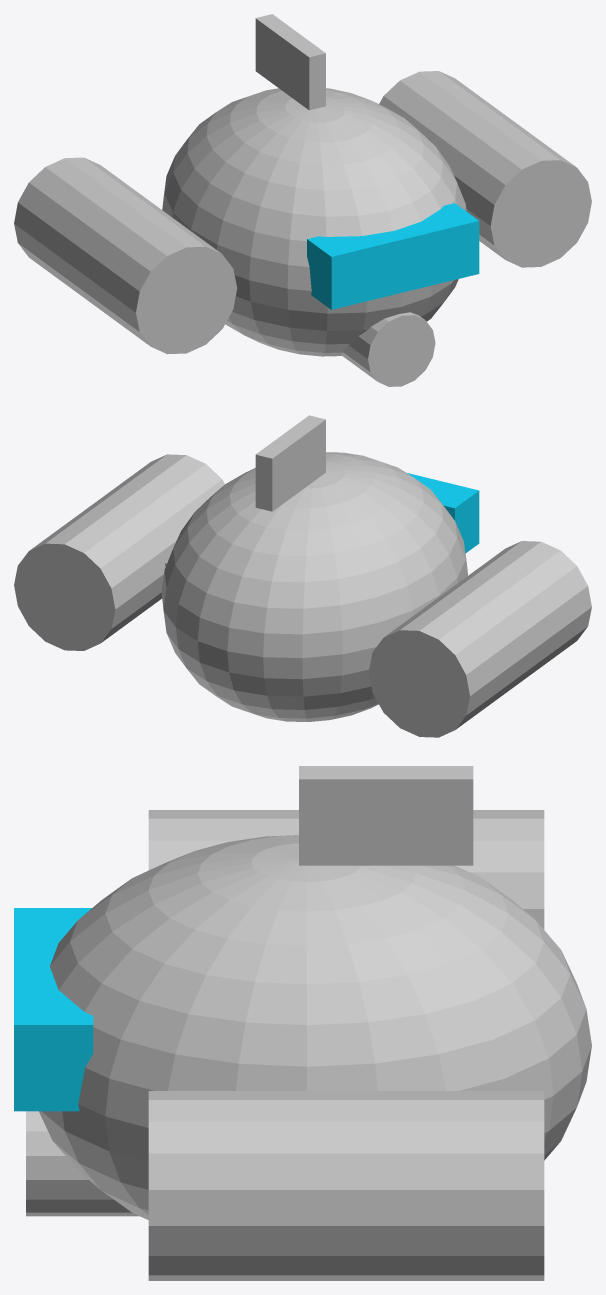
Rendered from player_drone.obj.
The picture shows the model from 3 angles, top to bottom: view 1: azimuth 30°, elevation 25°; view 2: azimuth 150°, elevation 25°; view 3: azimuth 270°, elevation 25°; orthographic projection. The views are drawn at different scales.
Visible parts, largest first — view 1: HazardDrone; view 2: HazardDrone; view 3: HazardDrone.
Part boxes in pixels (box(x1,y1,x2,y2)): HazardDrone: box(14, 14, 591, 386); HazardDrone: box(14, 415, 591, 737); HazardDrone: box(14, 766, 591, 1280).
Bounding box in the file's own units: 1.08 × 0.64 × 0.73.
